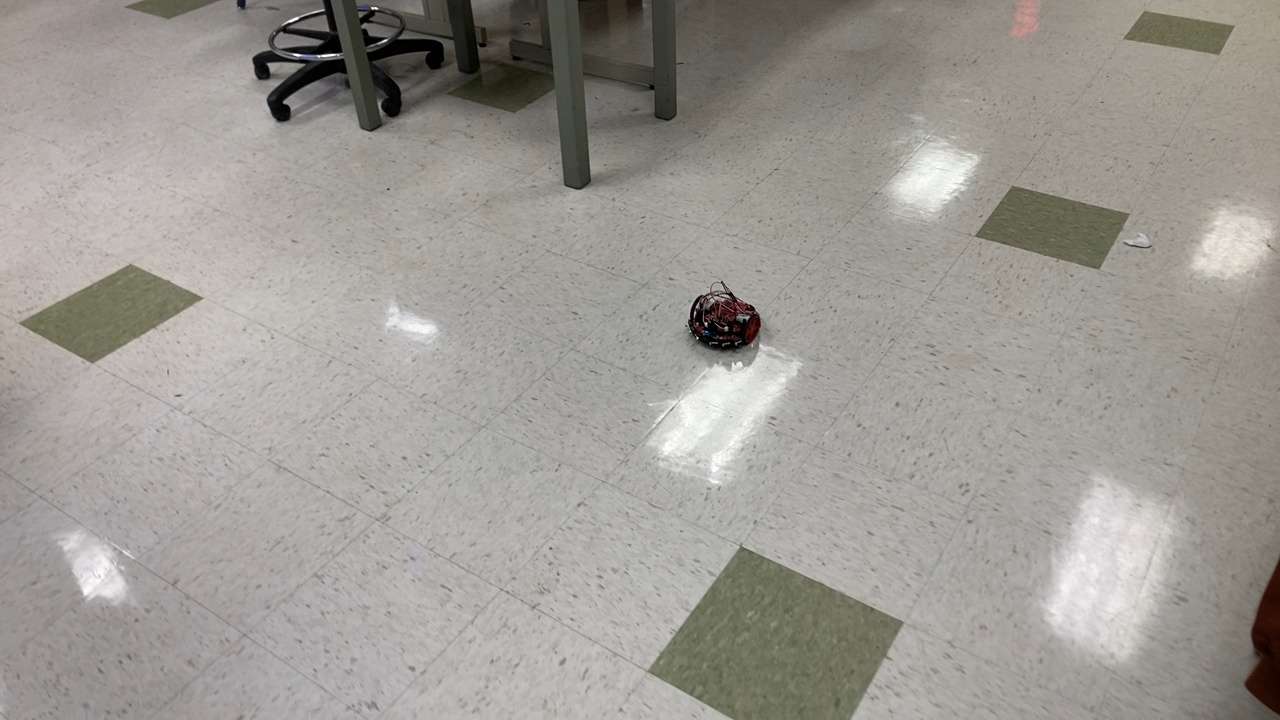robot: (683, 278, 765, 354)
